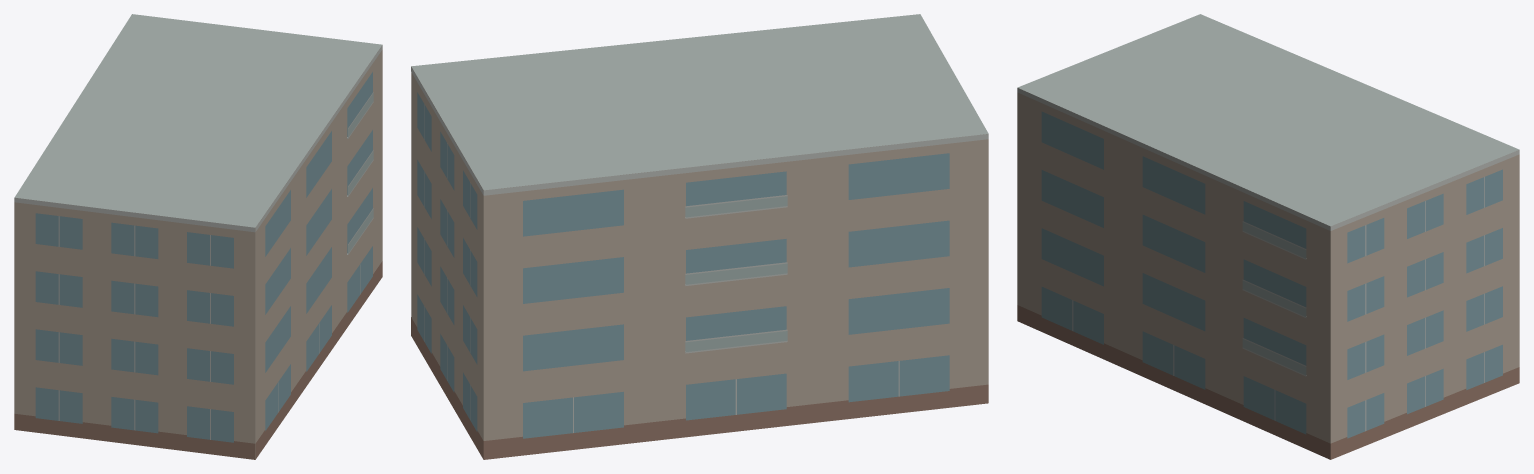
The model's file is survey-upis-32834309.glb.
3 views of the same model, side by side, from view 1: azimuth 30°, elevation 25°; view 2: azimuth 150°, elevation 25°; view 3: azimuth 270°, elevation 25° (orthographic). The views are drawn at different scales.
Parts seen in each view (by area): view 1: survey-upis-32834309.tmp; view 2: survey-upis-32834309.tmp; view 3: survey-upis-32834309.tmp.
Part boxes in pixels (x1,y1,x2,y2): survey-upis-32834309.tmp: (14,14,382,459); survey-upis-32834309.tmp: (411,14,988,459); survey-upis-32834309.tmp: (1017,14,1519,459).
Size of the model in its own units: 23.81 by 12.2 by 23.8.
